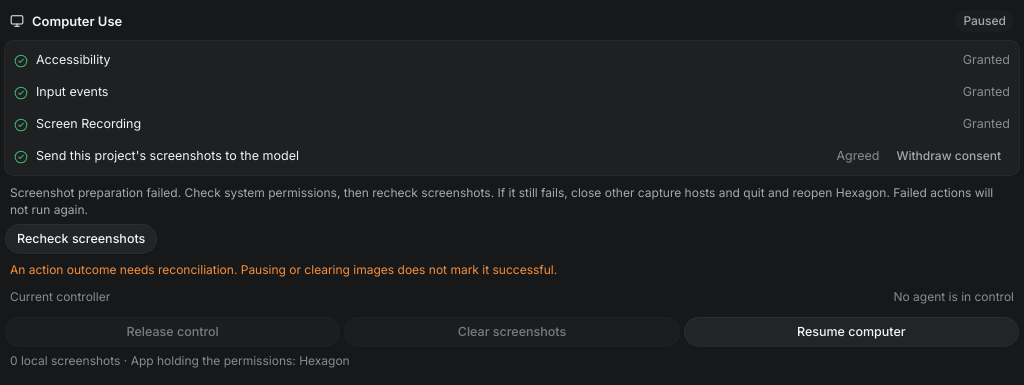
Test: rechecks a failed preparation without resuming or replaying the paused action
Click the button "Recheck screenshots" at (81,239), box [6,225,156,253]
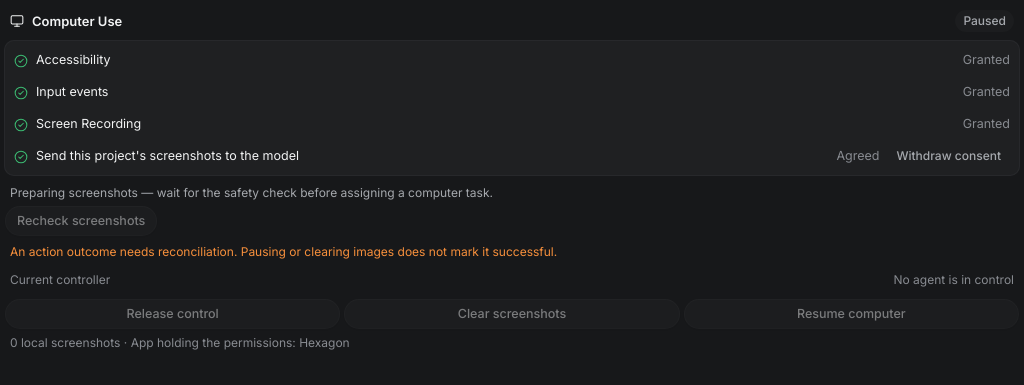
Now the text "Preparing screenshots" is shown, box [10,185,493,200]
